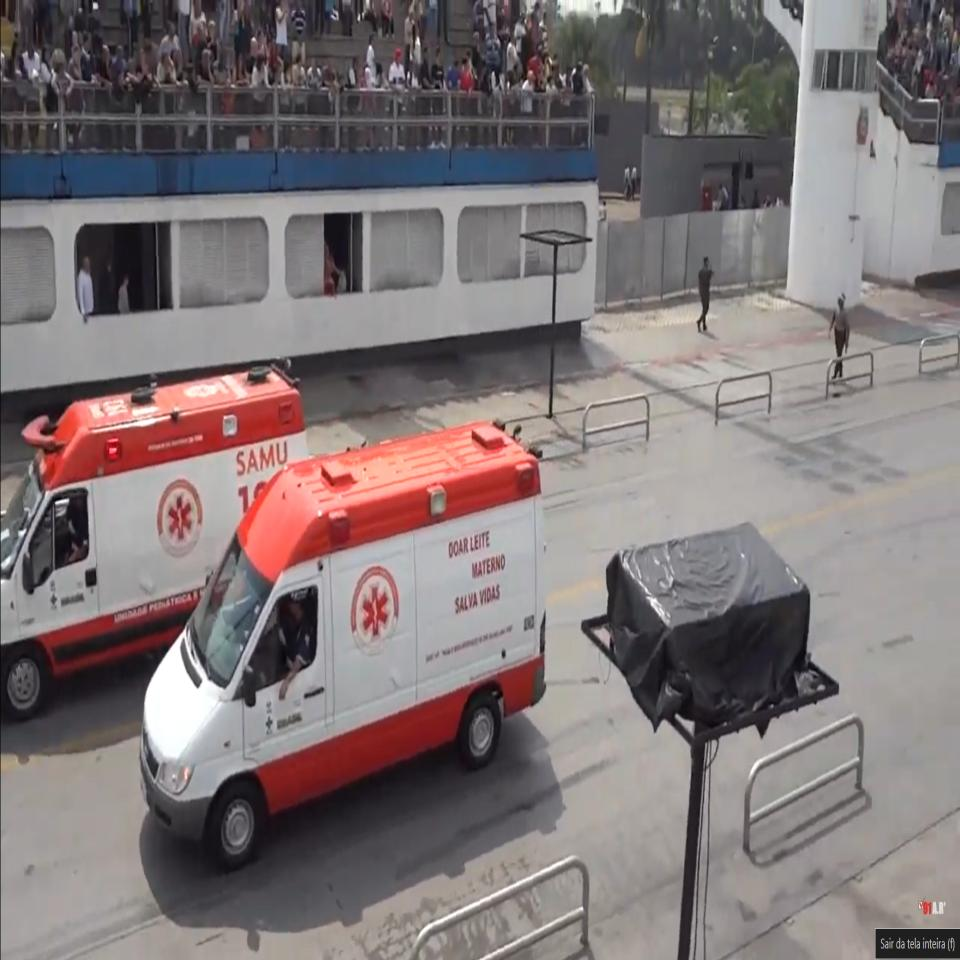bombeiro: (139, 418, 547, 872), (0, 361, 309, 719)
